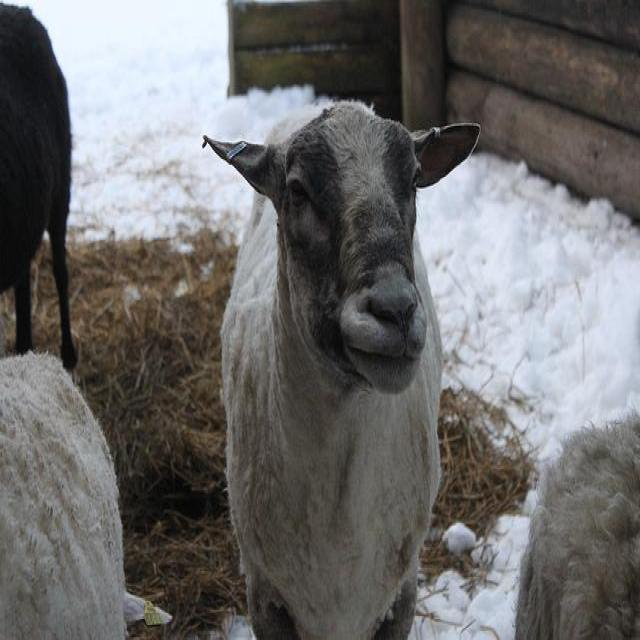Sheep: (205, 96, 484, 632), (1, 349, 131, 628), (0, 4, 78, 372), (517, 414, 639, 631)
